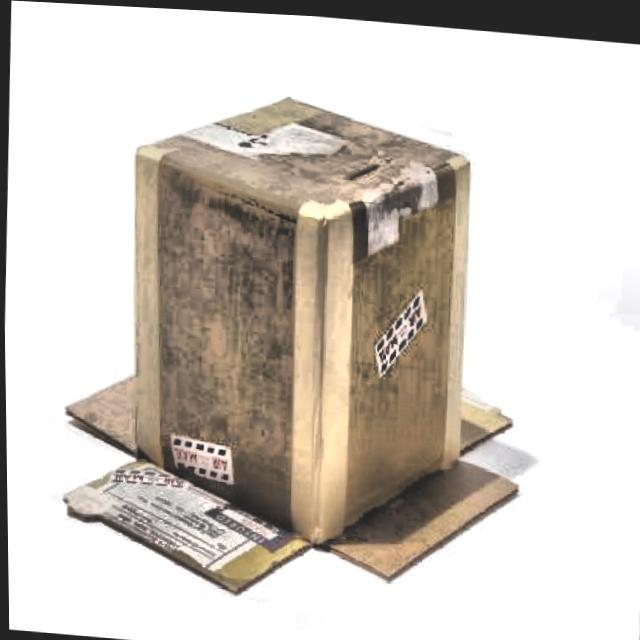Cardbox: (119, 99, 491, 601)
